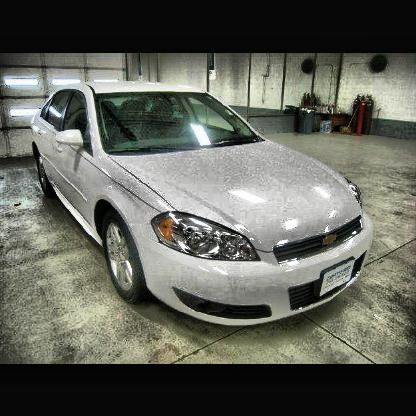Chevrolet Impala Sedan 2007: (31, 82, 375, 328)
